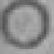no answer: (2, 1, 51, 50)
